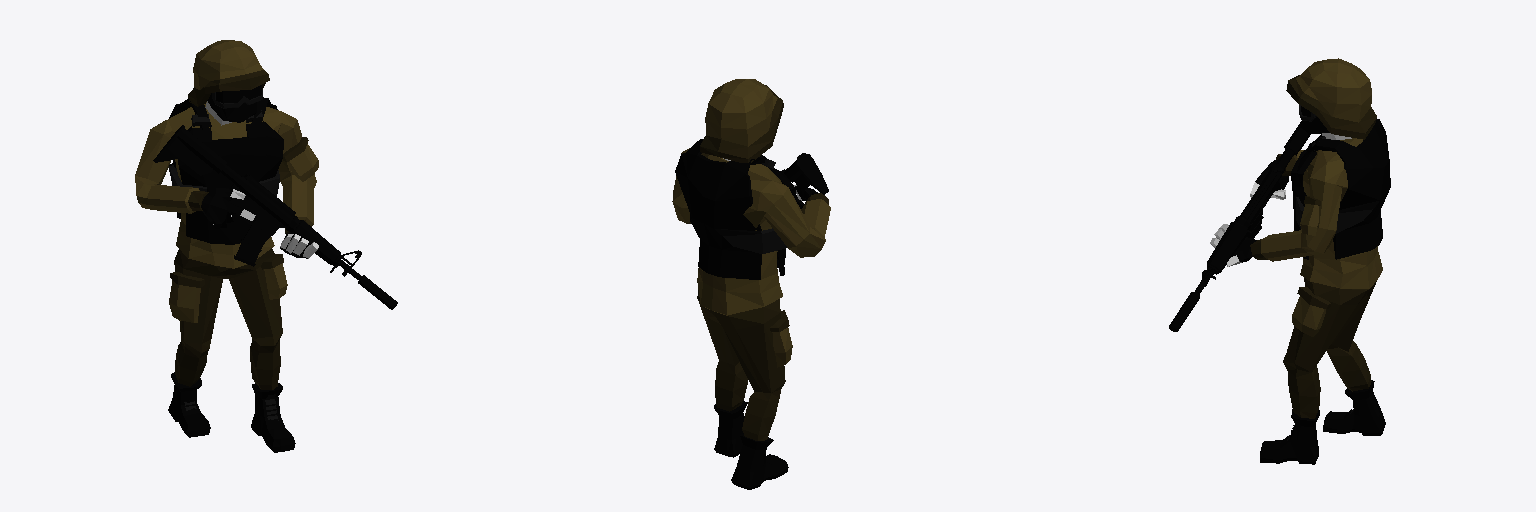
Rendered from soldiers.obj.
The picture shows the model from 3 angles: view 1: azimuth 30°, elevation 25°; view 2: azimuth 150°, elevation 25°; view 3: azimuth 270°, elevation 25°; orthographic projection.
Visible parts, largest first — view 1: Soldat, M4, M4_Amo; view 2: Soldat, M4; view 3: Soldat, M4.
Part boxes in pixels (x1,y1,x2,y2): Soldat: (135,40,318,452); M4: (153,125,397,309); M4_Amo: (234,225,270,266); Soldat: (672,79,830,489); M4: (780,153,828,208); Soldat: (1210,58,1390,464); M4: (1169,122,1309,331).
Size of the model in its own units: 15.36 by 31.96 by 16.64.